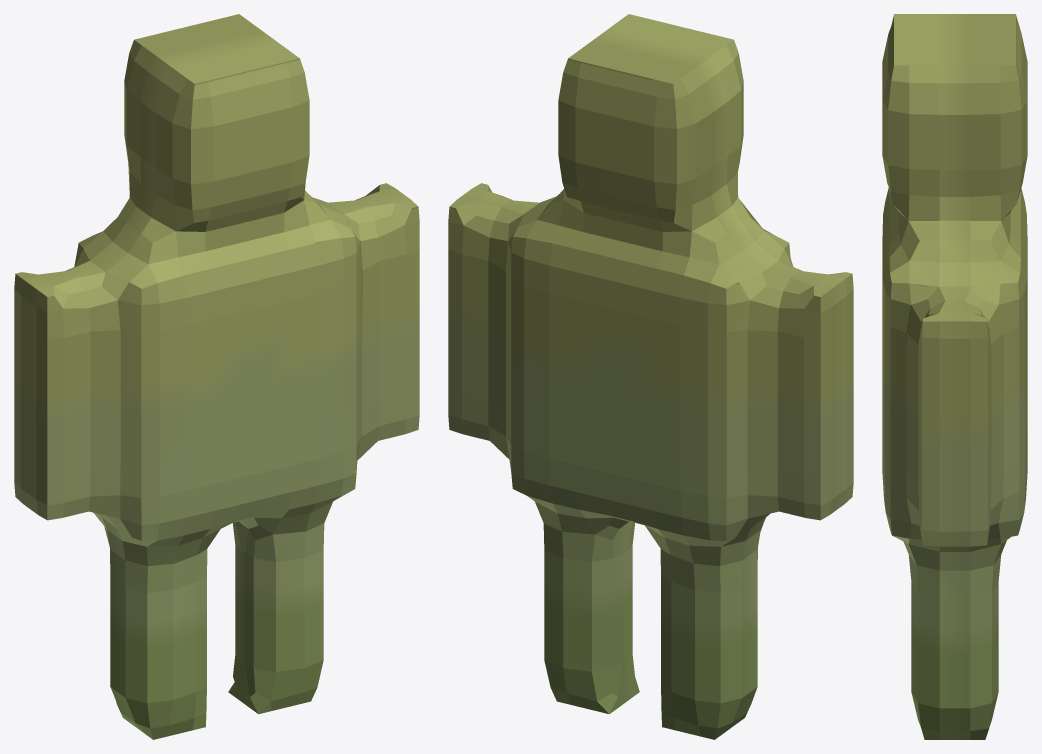
The model's file is berserker.glb.
The picture shows the model from 3 angles, left to right: view 1: azimuth 30°, elevation 25°; view 2: azimuth 150°, elevation 25°; view 3: azimuth 270°, elevation 25°; orthographic projection.
Visible parts, largest first — view 1: geometry_0; view 2: geometry_0; view 3: geometry_0.
Boxes of the visible parts, box(x1,y1,x2,y2) form: geometry_0: box(14, 14, 419, 739); geometry_0: box(448, 14, 853, 739); geometry_0: box(882, 14, 1027, 739).
Bounding box in the file's own units: 0.597 × 1 × 0.199.
1 material, 1 textured.
